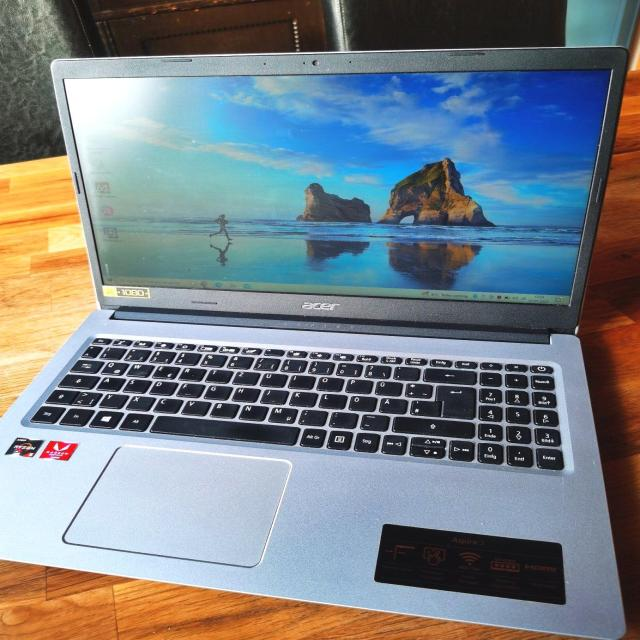0: (334, 361, 362, 375)
1: (97, 345, 126, 358)
2: (121, 347, 150, 360)
3: (147, 348, 175, 362)
4: (173, 351, 200, 364)
5: (199, 353, 227, 366)
6: (225, 354, 253, 367)
7: (251, 356, 279, 369)
8: (278, 357, 306, 371)
9: (306, 359, 334, 373)
a: (94, 375, 124, 389)
accent: (392, 365, 419, 379)
ae: (377, 396, 407, 412)
alt-left: (116, 411, 152, 430)
altgr-right: (298, 427, 325, 446)
b: (207, 400, 238, 417)
c: (151, 396, 182, 411)
caret: (79, 344, 101, 356)
comma: (297, 408, 327, 425)
d: (147, 378, 177, 394)
del: (421, 367, 474, 383)
e: (150, 363, 179, 378)
enter: (434, 384, 474, 418)
f: (174, 381, 204, 396)
g: (202, 383, 231, 398)
h: (229, 385, 259, 400)
hash: (409, 399, 440, 416)
i: (286, 373, 315, 388)
j: (259, 387, 288, 403)
k: (287, 389, 317, 406)
keyboard: (15, 333, 573, 473)
l: (317, 392, 346, 408)
less: (71, 390, 101, 405)
m: (266, 405, 297, 422)
minus: (358, 413, 388, 430)
n: (237, 403, 267, 420)
o: (314, 375, 342, 390)
oe: (347, 394, 376, 410)
p: (344, 378, 372, 393)
plus: (403, 382, 432, 398)
point: (328, 410, 358, 427)
q: (99, 359, 128, 374)
r: (177, 365, 206, 380)
s: (121, 377, 150, 391)
shift-left: (43, 388, 77, 402)
shift-lock: (56, 373, 99, 387)
shift-right: (391, 416, 474, 437)
space: (147, 414, 301, 446)
ss: (363, 363, 391, 377)
strg-left: (28, 404, 65, 422)
strg-right: (353, 431, 379, 451)
t: (203, 367, 232, 382)
tab: (67, 358, 103, 372)
u: (258, 371, 287, 386)
ue: (373, 379, 402, 395)
v: (179, 398, 209, 415)
w: (124, 361, 153, 375)
x: (123, 393, 153, 410)
y: (96, 391, 128, 407)
z: (230, 369, 258, 384)
